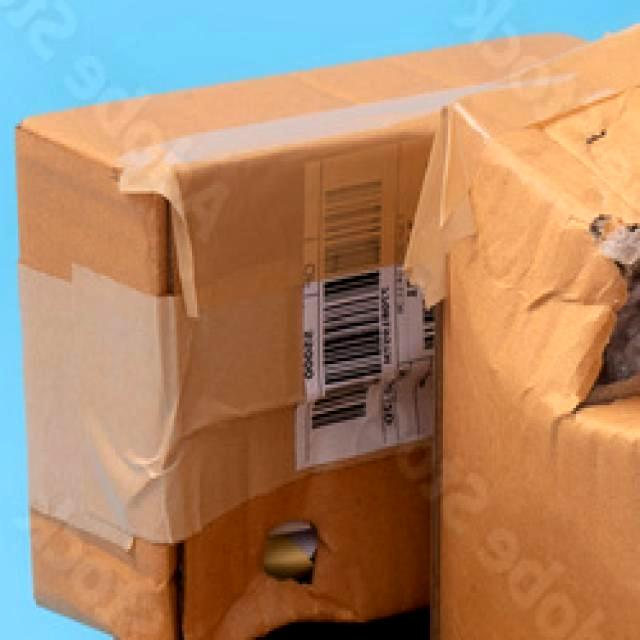Cardboard Box: (13, 31, 606, 640)
cut: (263, 522, 317, 583)
